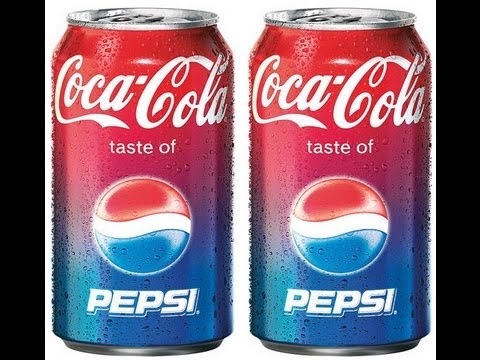pepsi: (90, 177, 191, 274), (291, 176, 388, 272)
